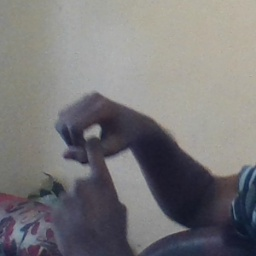Q: (43, 88, 147, 237)
